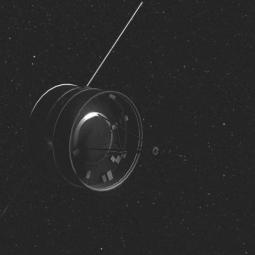double_start: (20, 70, 152, 203)
